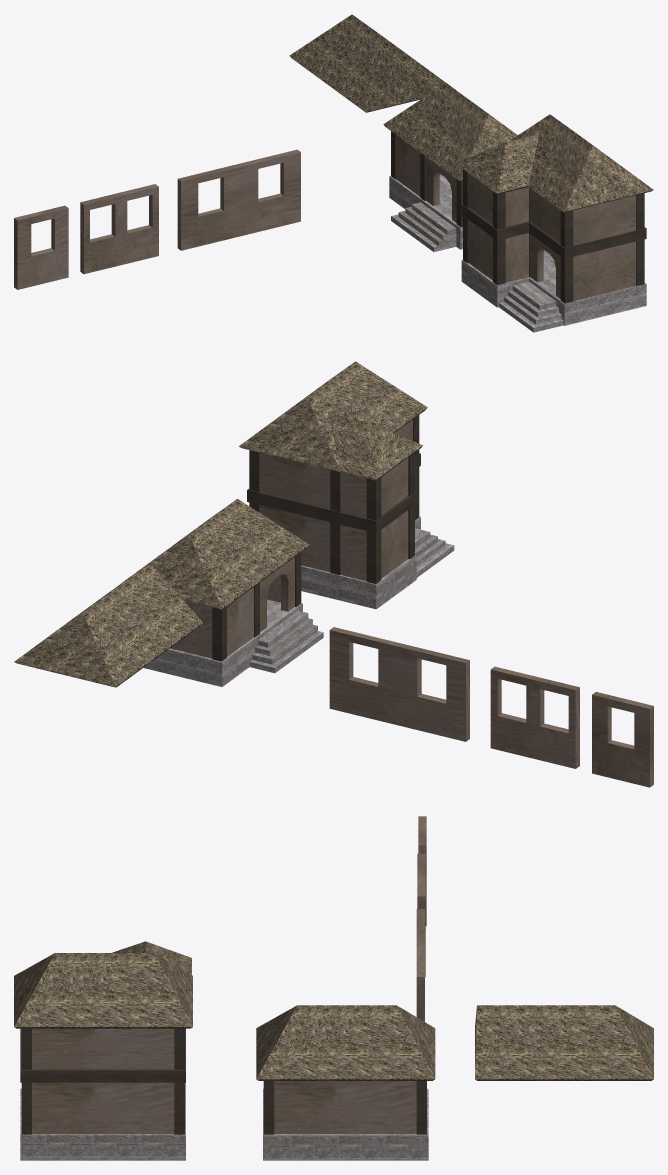
Rendered from VillageHouses.fbx.
3 views of the same model, one above another, from view 1: azimuth 30°, elevation 25°; view 2: azimuth 150°, elevation 25°; view 3: azimuth 270°, elevation 25° (orthographic). The views are drawn at different scales.
Visible parts, largest first — view 1: Wall.031, Wall.003, Wall.024, Wall.029, Wall.002, Wall.007, Wall.001, Wall.025, Wall.014, Wall.016, Wall.021, Wall.009 (+13 smaller); view 2: Wall.031, Wall.003, Wall.029, Wall.024, Wall.002, Wall.001, Wall.019, Wall.025, Wall.012, Wall.006, Wall.007, Wall.008 (+10 smaller); view 3: Wall.031, Wall.029, Wall.024, Wall.023, Wall.010, Wall.017, Wall.007, Wall.006, Wall.016, Wall.003, Wall.025, WallPillar.016 (+4 smaller).
Boxes of the visible parts, bbox=[...] form: Wall.031: bbox=[289, 14, 455, 112]; Wall.003: bbox=[177, 149, 300, 250]; Wall.024: bbox=[510, 114, 653, 212]; Wall.029: bbox=[383, 83, 517, 181]; Wall.002: bbox=[80, 184, 158, 274]; Wall.007: bbox=[461, 250, 646, 325]; Wall.001: bbox=[14, 205, 68, 289]; Wall.025: bbox=[456, 134, 538, 194]; Wall.014: bbox=[573, 241, 635, 301]; Wall.016: bbox=[461, 204, 646, 258]; Wall.021: bbox=[573, 195, 635, 245]; Wall.009: bbox=[499, 281, 563, 332]; Wall.031: bbox=[14, 563, 202, 687]; Wall.003: bbox=[329, 627, 469, 741]; Wall.029: bbox=[121, 499, 309, 609]; Wall.024: bbox=[239, 361, 427, 472]; Wall.002: bbox=[490, 666, 579, 768]; Wall.001: bbox=[592, 692, 653, 787]; Wall.019: bbox=[259, 452, 366, 517]; Wall.025: bbox=[328, 413, 422, 480]; Wall.012: bbox=[259, 505, 366, 580]; Wall.006: bbox=[143, 599, 302, 686]; Wall.007: bbox=[301, 516, 420, 609]; Wall.008: bbox=[249, 610, 323, 673]; Wall.031: bbox=[475, 1005, 653, 1080]; Wall.029: bbox=[256, 1005, 435, 1080]; Wall.024: bbox=[14, 953, 192, 1028]; Wall.023: bbox=[274, 1081, 416, 1133]; Wall.010: bbox=[32, 1082, 174, 1133]; Wall.017: bbox=[32, 1028, 174, 1069]; Wall.007: bbox=[20, 1082, 185, 1160]; Wall.006: bbox=[263, 1088, 428, 1160]; Wall.016: bbox=[20, 1028, 185, 1082]; Wall.003: bbox=[416, 909, 424, 1021]; Wall.025: bbox=[112, 941, 191, 974]; WallPillar.016: bbox=[263, 1081, 274, 1134].
Bounding box in the file's own units: 3639 × 1196 × 3743.
